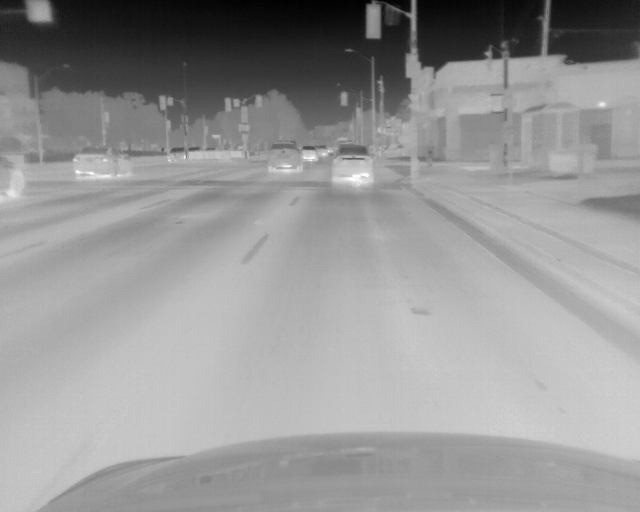car: (70, 145, 133, 180), (329, 144, 373, 187), (1, 147, 26, 198), (265, 142, 302, 176), (300, 145, 318, 166), (168, 145, 190, 162), (317, 143, 328, 160)
